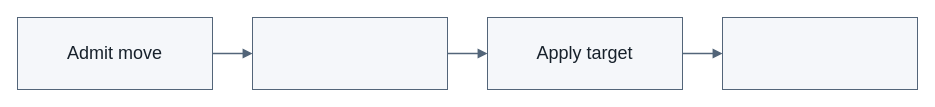
Some shapes in this 935 by 107 pixel diagram are drawn without their labels. The centre of each missing label's shape, as x and y in pixels:
Quiesce and drain: point (350, 53)
Reconcile and release: point (820, 53)
